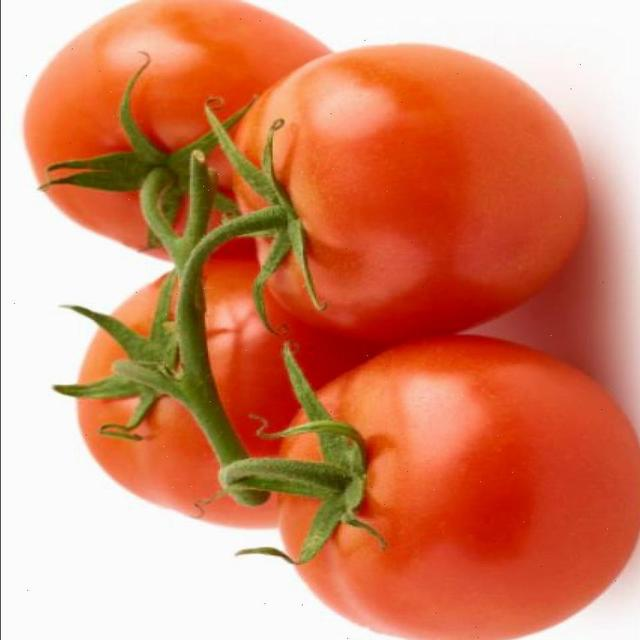Healthy Fruit: (97, 96, 298, 330)
